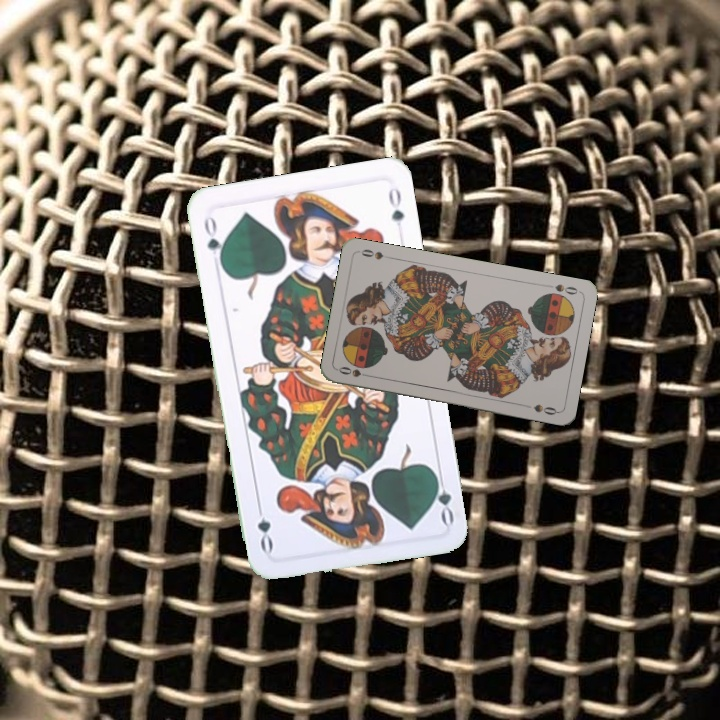GO: (429, 467, 457, 527), (200, 212, 226, 269)
SO: (335, 362, 375, 380), (541, 280, 581, 297)
